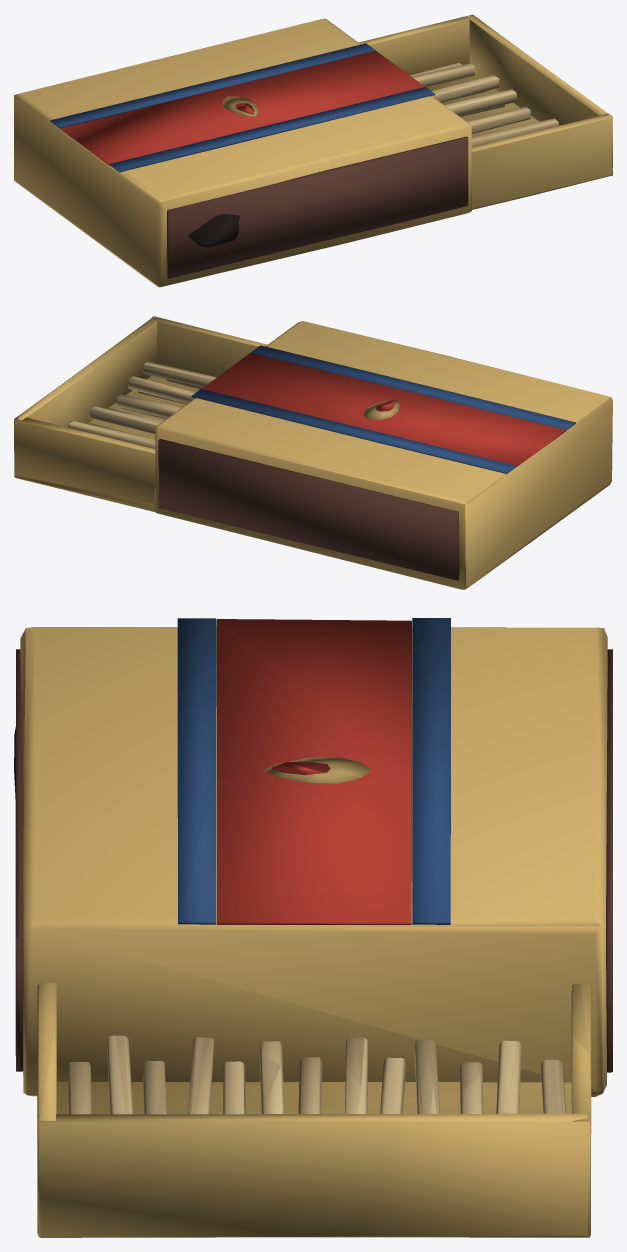
Rendered from ember_matchbox_lod2.glb.
3 renders of one model, top to bottom at view 1: azimuth 30°, elevation 25°; view 2: azimuth 150°, elevation 25°; view 3: azimuth 270°, elevation 25°, orthographic. The views are drawn at different scales.
Visible parts, largest first — view 1: ember_matchbox.001; view 2: ember_matchbox.001; view 3: ember_matchbox.001.
Boxes of the visible parts, x1,y1,x2,y2 form: ember_matchbox.001: [14, 14, 612, 287]; ember_matchbox.001: [14, 316, 612, 589]; ember_matchbox.001: [14, 618, 612, 1237].
Bounding box in the file's own units: 32.08 × 6.26 × 18.39.
